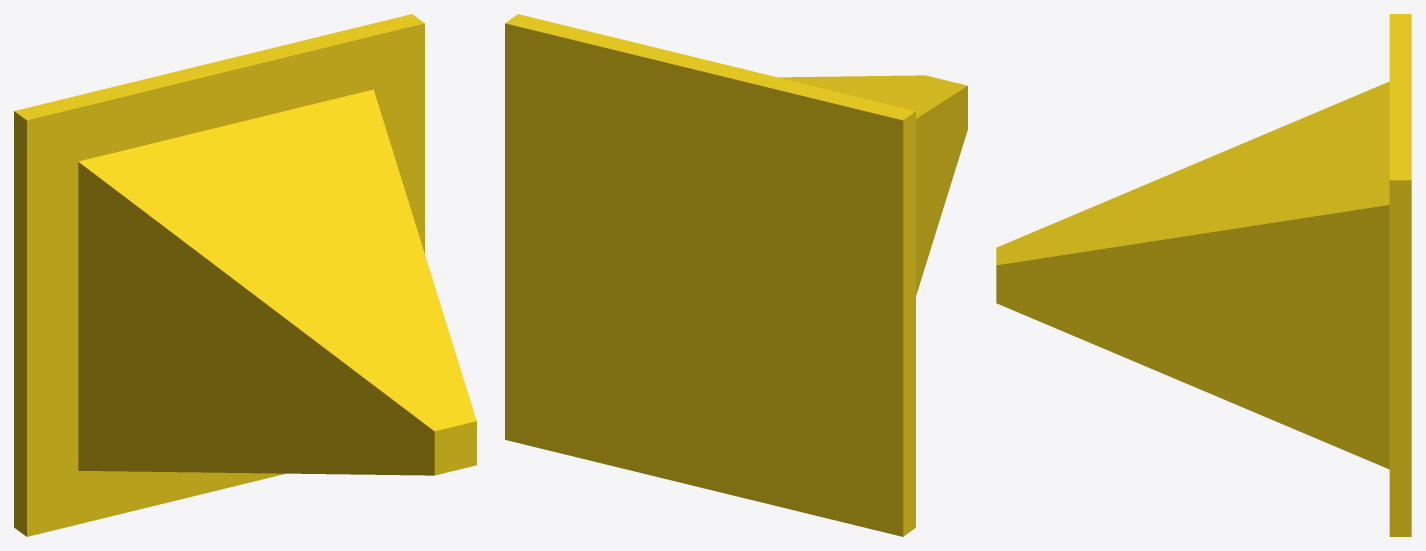
File: tinker.obj
3 renders of one model, left to right at view 1: azimuth 30°, elevation 25°; view 2: azimuth 150°, elevation 25°; view 3: azimuth 270°, elevation 25°, orthographic. The views are drawn at different scales.
Visible parts, largest first — view 1: obj_0; view 2: obj_0; view 3: obj_0.
Boxes of the visible parts, x1,y1,x2,y2 form: obj_0: [14, 14, 476, 536]; obj_0: [505, 14, 967, 536]; obj_0: [996, 14, 1411, 536].
Size of the model in its own units: 18 by 18 by 19.
